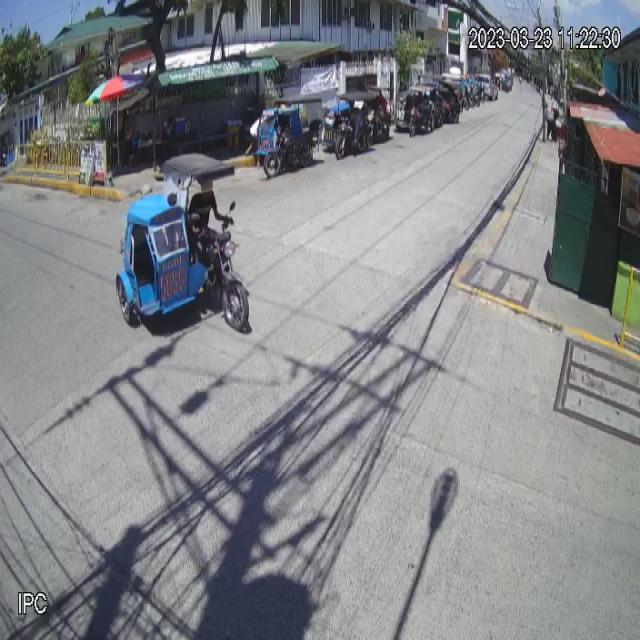Tricycle: (114, 152, 251, 339), (256, 96, 326, 179)
